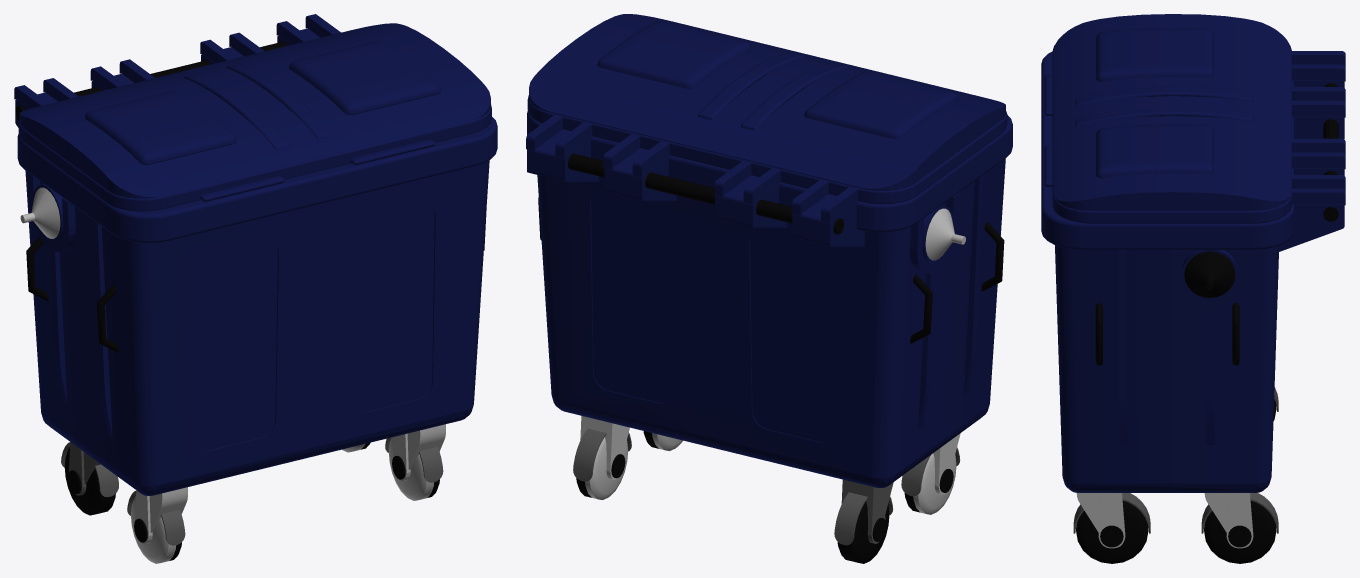
File: trashbox.FBX
The picture shows the model from 3 angles, left to right: view 1: azimuth 30°, elevation 25°; view 2: azimuth 150°, elevation 25°; view 3: azimuth 270°, elevation 25°; orthographic projection. The views are drawn at different scales.
Visible parts, largest first — view 1: Rectangle0; view 2: Rectangle0; view 3: Rectangle0.
Boxes of the visible parts, box(x1,y1,x2,y2) form: Rectangle0: box(14, 14, 497, 563); Rectangle0: box(526, 14, 1012, 563); Rectangle0: box(1041, 14, 1345, 563).
Size of the model in its own units: 1472 by 1383 by 946.
